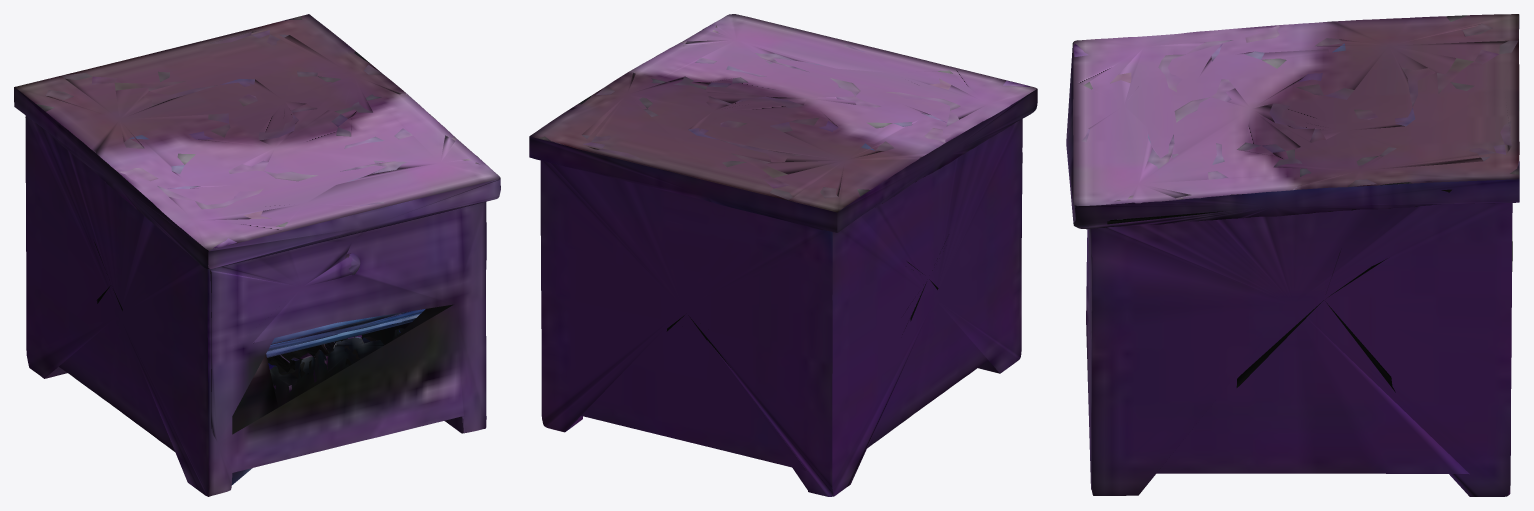
3 views of the same model, side by side, from view 1: azimuth 30°, elevation 25°; view 2: azimuth 150°, elevation 25°; view 3: azimuth 270°, elevation 25° (orthographic). The views are drawn at different scales.
Visible parts, largest first — view 1: world; view 2: world; view 3: world.
Part boxes in pixels (bbox=[...]): world: bbox=[14, 14, 500, 496]; world: bbox=[529, 14, 1037, 496]; world: bbox=[1066, 14, 1519, 496].
Bounding box in the file's own units: 0.3131 × 0.2801 × 0.3555.
Materials: 1 (1 with a texture image).
